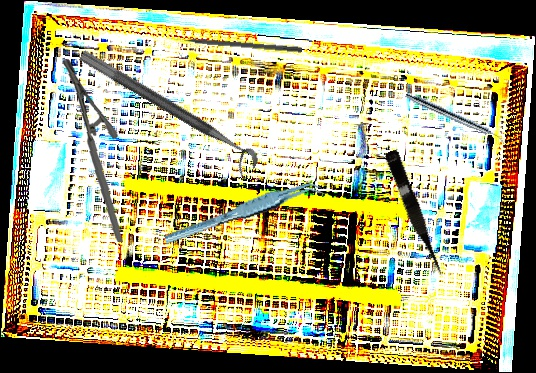Fixation Ring: (69, 49, 263, 181)
Handpiece: (403, 91, 508, 145)
Micro Scissor: (381, 148, 448, 281)
Needle Holder: (52, 59, 133, 243)
Pusher: (168, 34, 303, 53)
Tissue Forceps: (159, 179, 327, 246)
